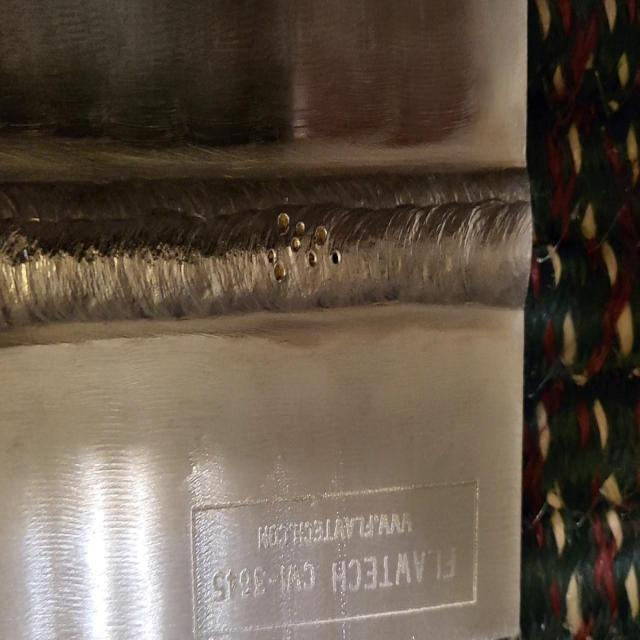Welding Line: (0, 181, 526, 313)
Workpiece: (1, 3, 520, 640)
porosity: (267, 210, 341, 280)
